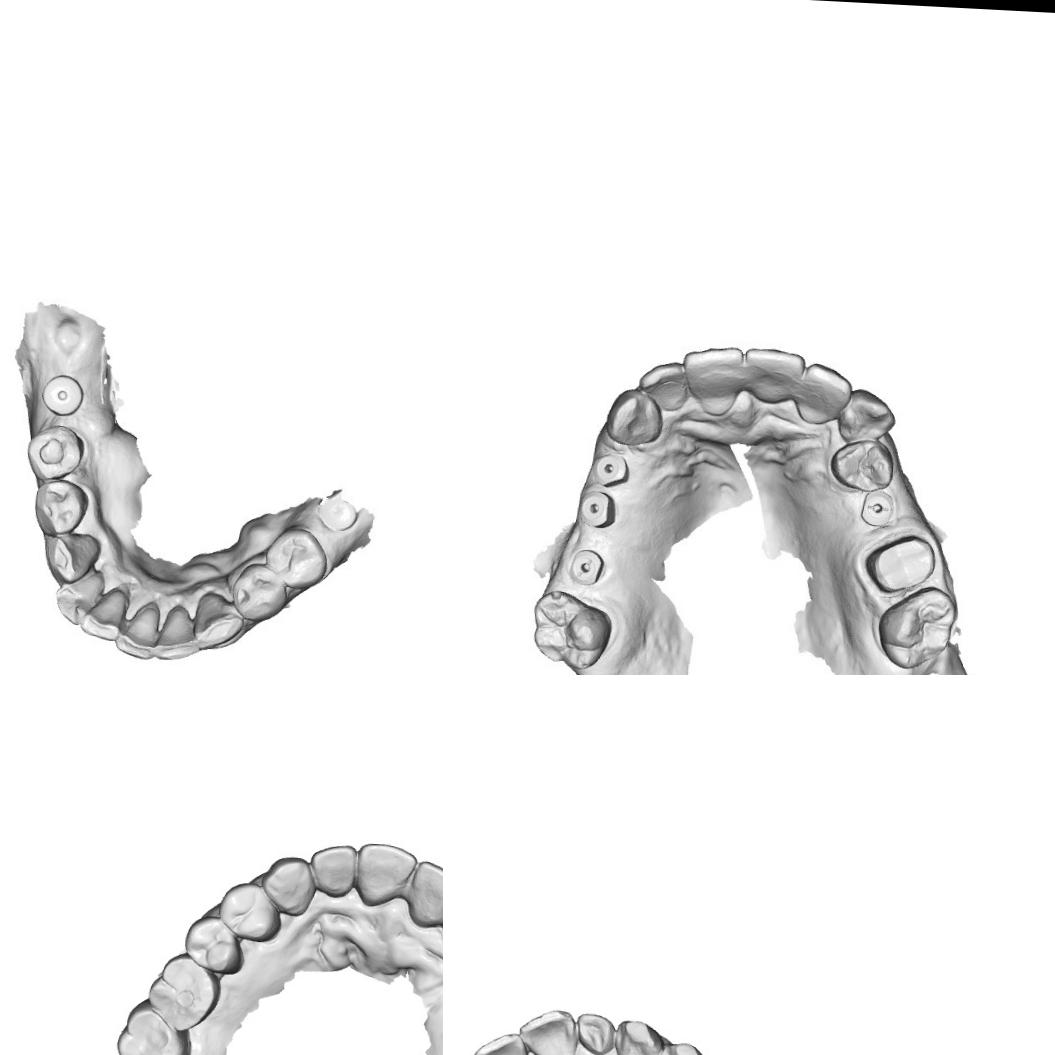canine: (834, 386, 896, 447), (258, 854, 317, 917), (604, 388, 665, 448), (192, 590, 245, 655), (37, 533, 97, 586), (611, 1016, 664, 1055)
crown: (870, 532, 931, 592)
implant: (39, 371, 86, 418), (318, 494, 358, 532), (576, 488, 614, 526), (592, 452, 631, 484)
implant_minus: (854, 488, 895, 525), (568, 544, 604, 585)
incisor: (677, 342, 744, 416), (352, 840, 418, 908), (738, 344, 808, 407), (795, 359, 854, 420), (515, 1005, 578, 1055), (152, 600, 201, 664), (53, 568, 103, 628), (112, 602, 161, 662), (636, 360, 688, 416), (307, 842, 358, 899), (79, 586, 125, 647), (405, 858, 443, 931), (574, 1010, 620, 1055), (470, 1029, 531, 1055)
molar: (528, 586, 617, 674), (873, 584, 958, 674), (145, 950, 221, 1033), (113, 1000, 192, 1055)
premolar: (262, 524, 328, 590), (182, 912, 246, 976), (229, 558, 288, 624), (28, 476, 92, 536), (218, 881, 278, 942), (828, 435, 892, 489), (27, 424, 84, 482), (645, 1038, 710, 1055)
